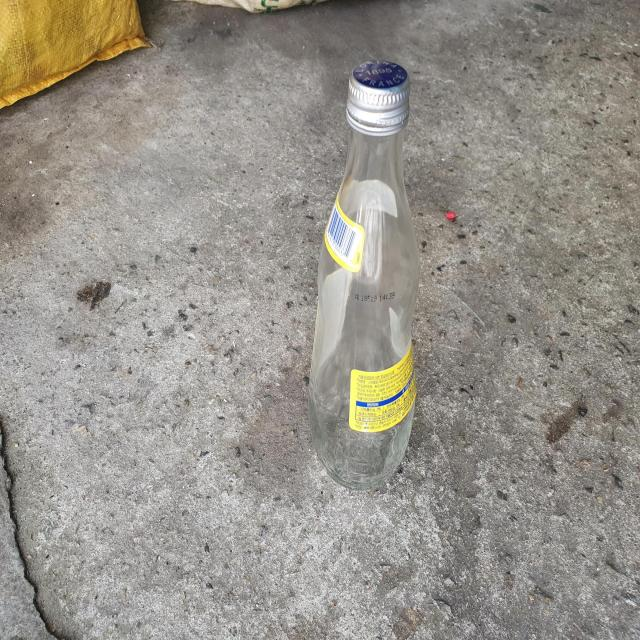glass: (309, 60, 419, 490)
